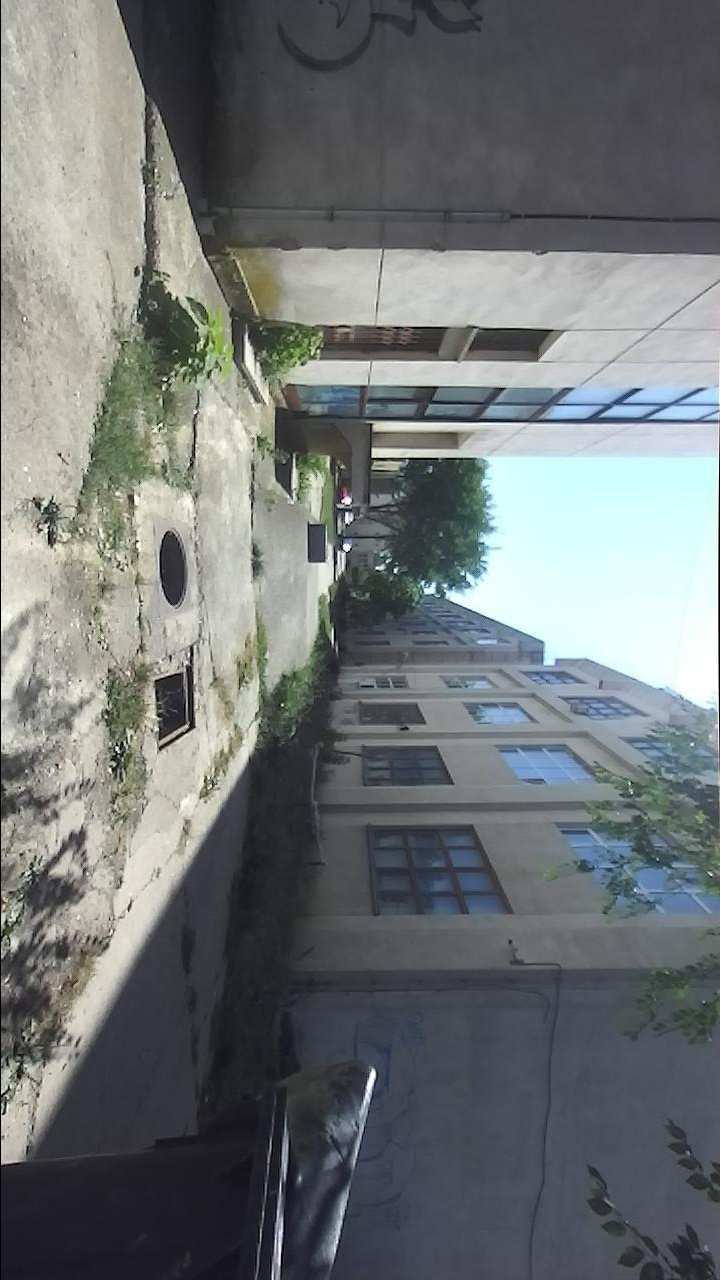drain: (151, 663, 200, 756), (158, 524, 192, 614)
